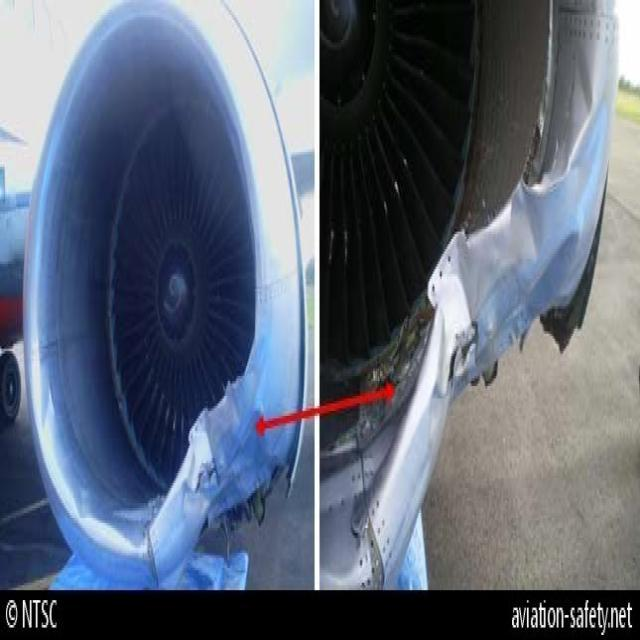dent: (547, 53, 607, 290), (222, 407, 269, 517), (440, 245, 488, 332), (509, 188, 543, 265), (432, 332, 453, 454)
